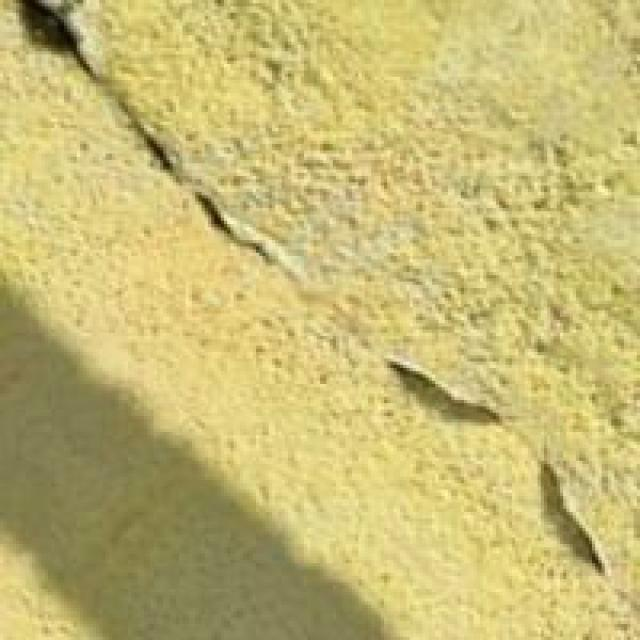SurfaceCrack: (374, 334, 620, 594)
